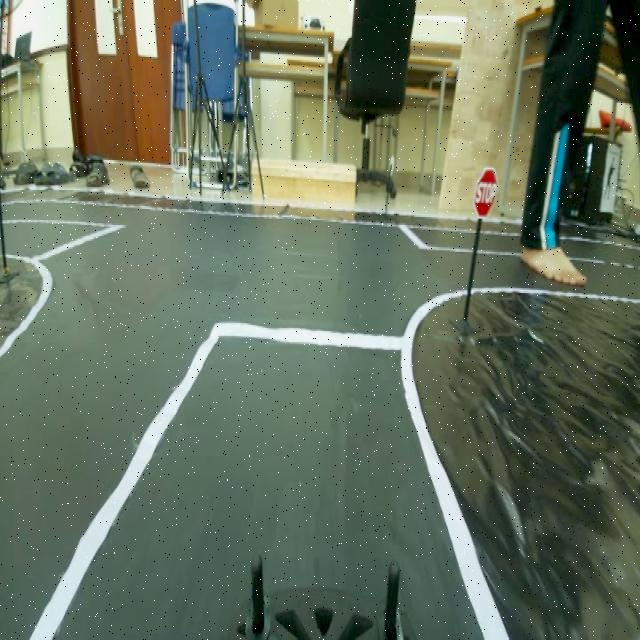stop: (472, 158, 498, 218)
